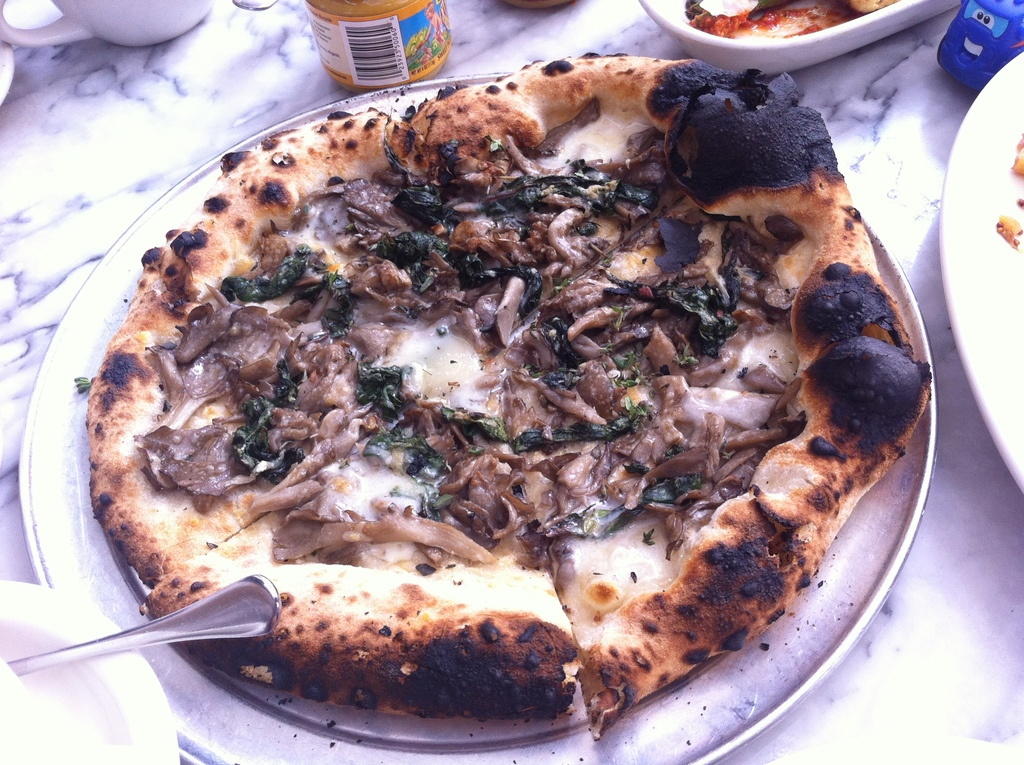Pizza: (82, 48, 936, 736)
